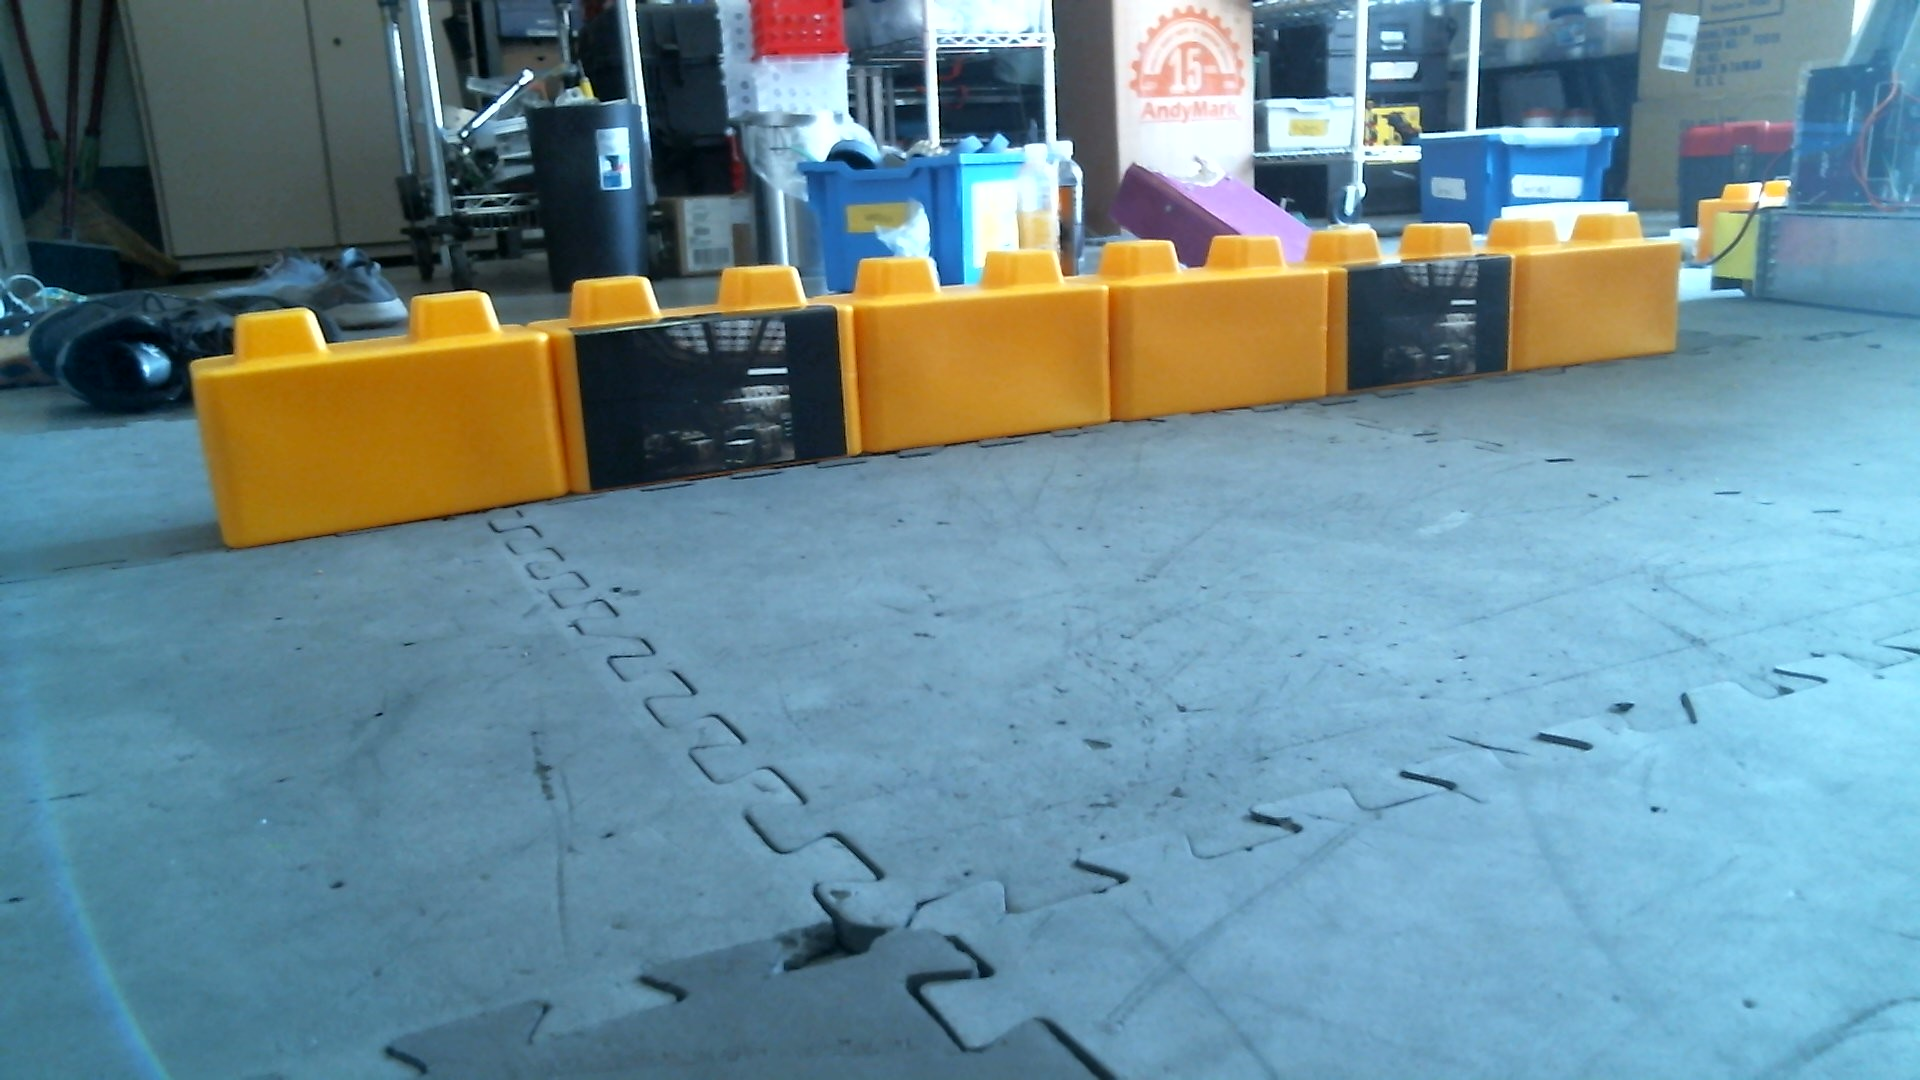skystone: (560, 281, 847, 476), (1320, 225, 1519, 392)
stone: (191, 310, 570, 524), (843, 256, 1112, 438), (1100, 236, 1341, 405), (1501, 219, 1677, 356)
